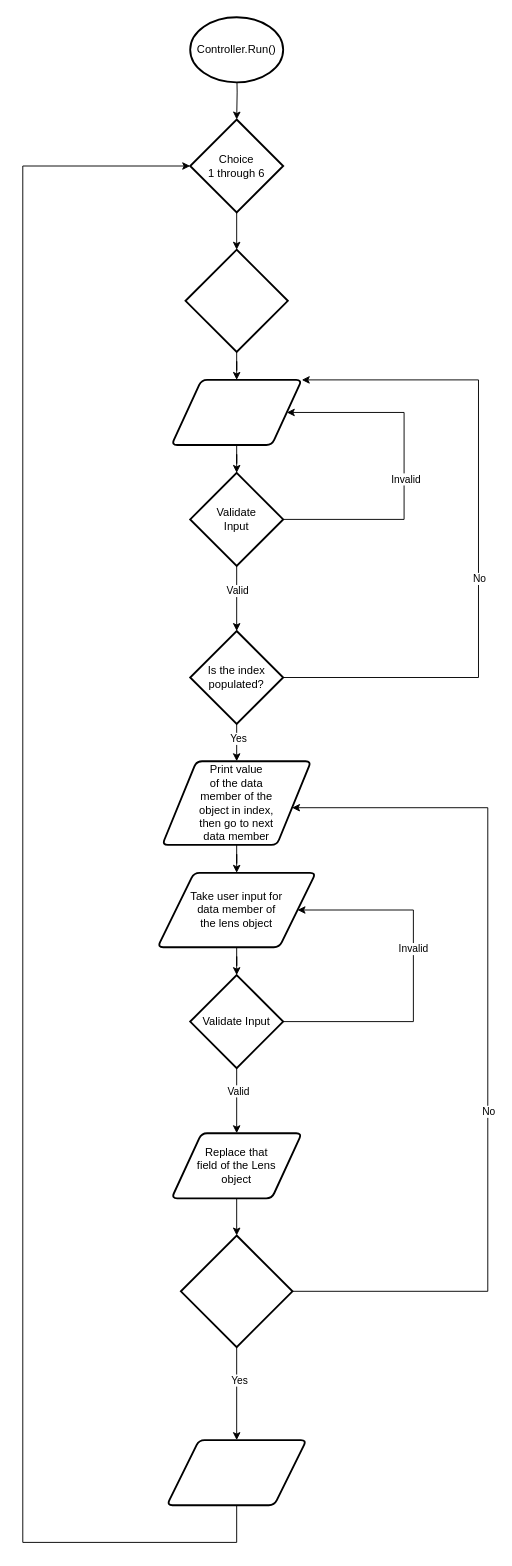
Image size: 512x1566. Some labels were removed from this diagram. Each missing label, with the box of its shape:
Choice 4 EditLens: (184, 248, 288, 352)
Is this the last field to update?: (179, 1234, 293, 1348)
Print updated object: (166, 1439, 307, 1506)
Take user input for index of Lenses[ ]: (170, 379, 302, 445)
